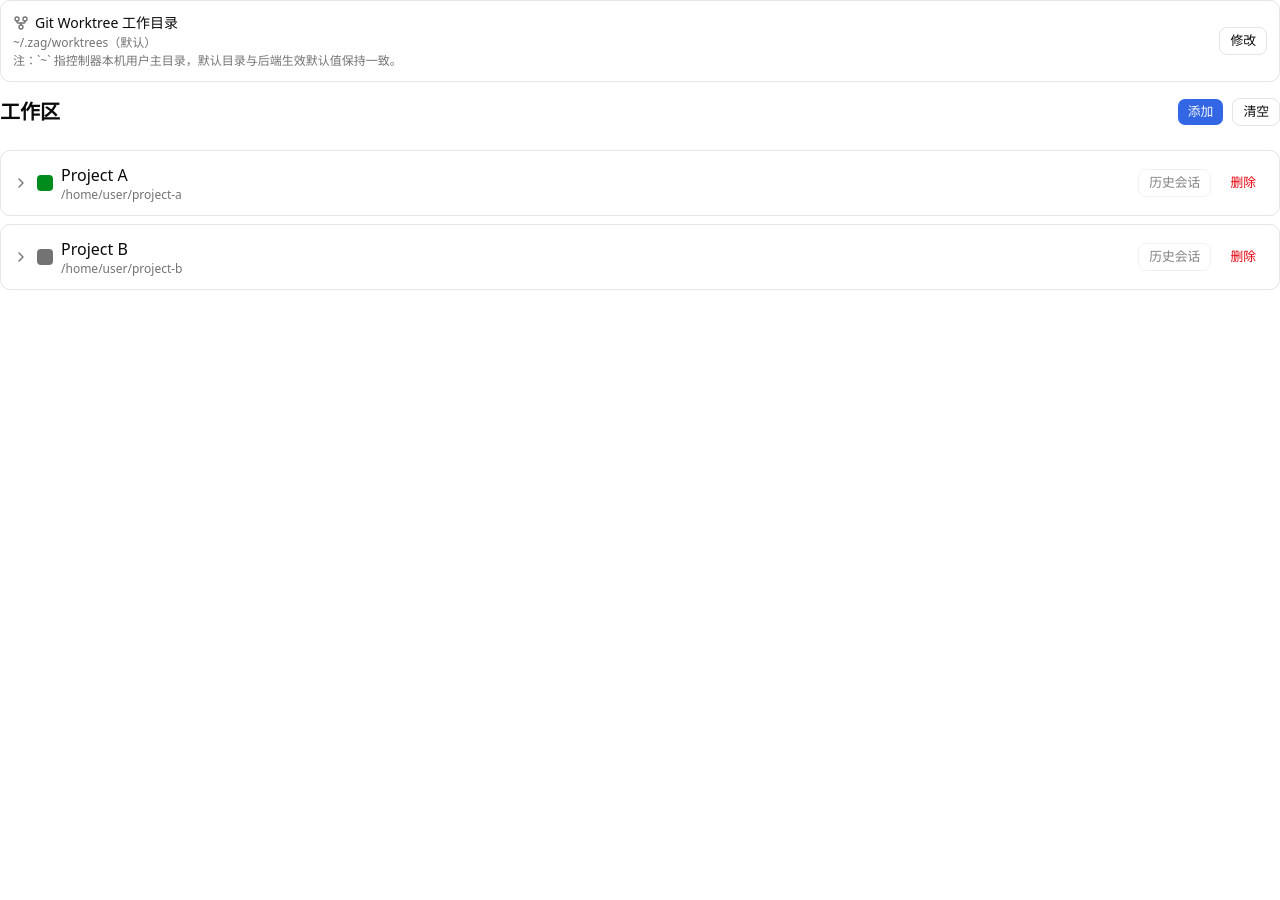
Test case: WorkspaceSection › should open AddWorkspaceDialog on add button click
Click the button "添加" at x=1201, y=112, box [1177,98,1224,126]
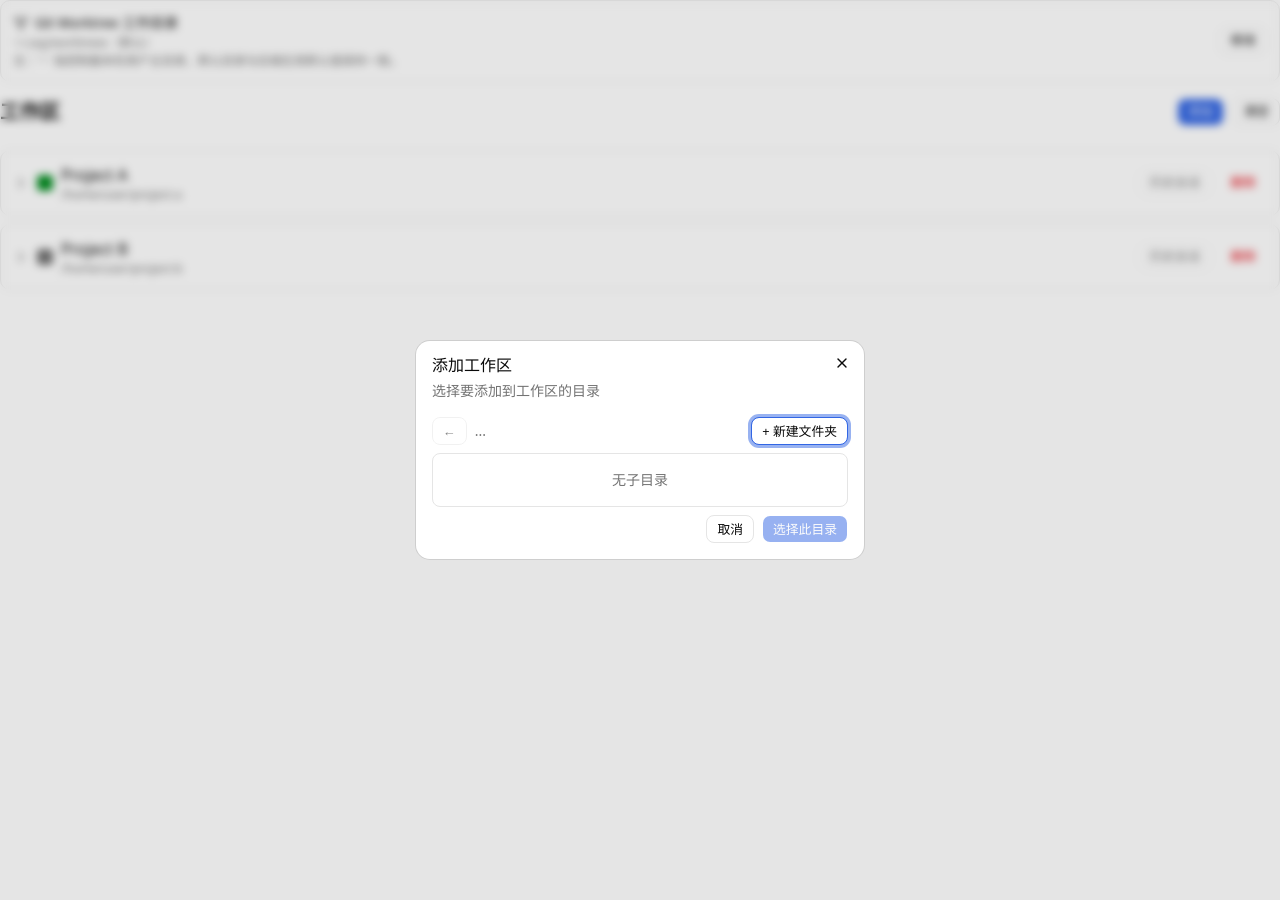
Result: the text "选择要添加到工作区的目录" is shown at [432,381,600,400]
